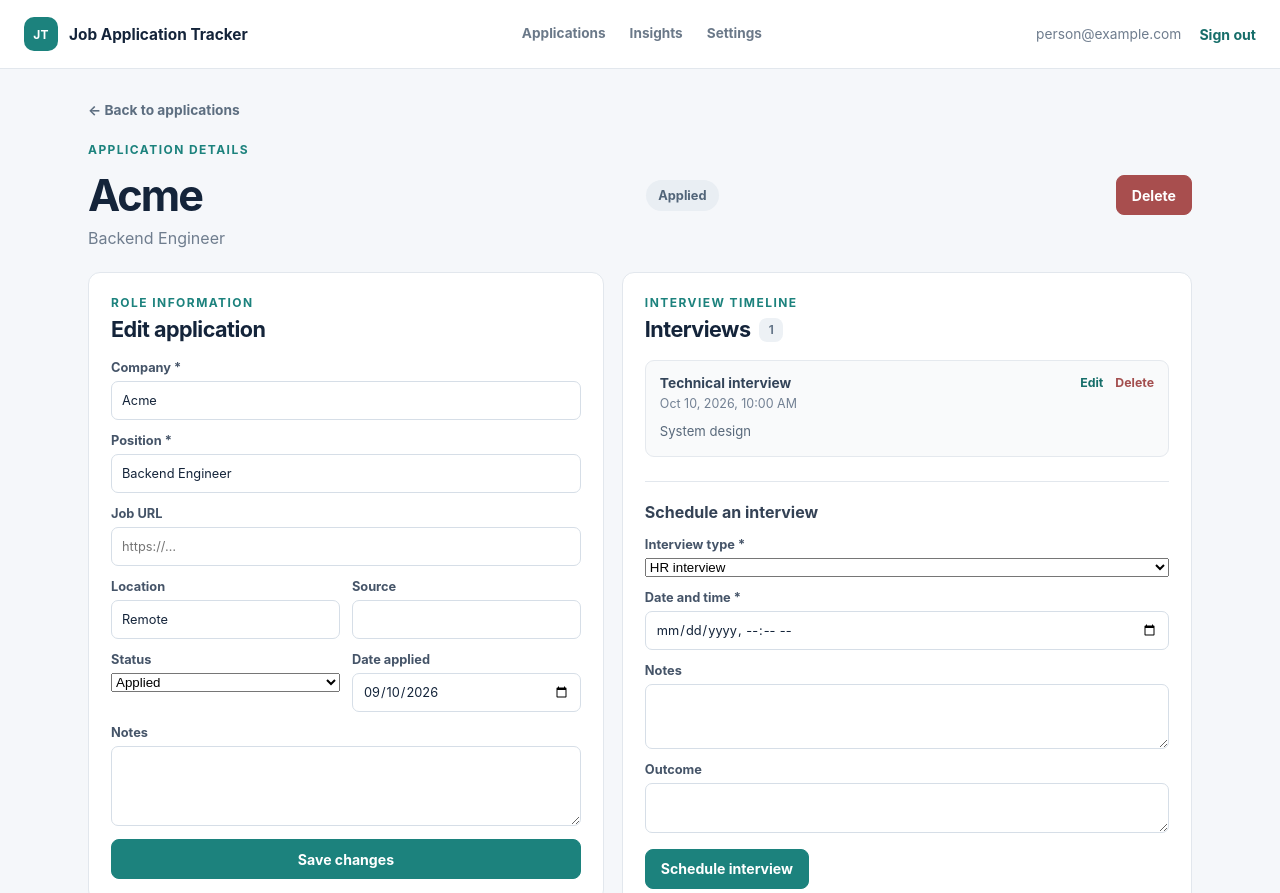
Test: ApplicationDetailPage › loads a job and its interview history, then schedules an interview
Expected: the text "System design" is shown, [660,423,751,439]
Type "2026-10-18T09:30" into the field labelled "Date and time *" at (907, 630), box [645,611,1169,650]
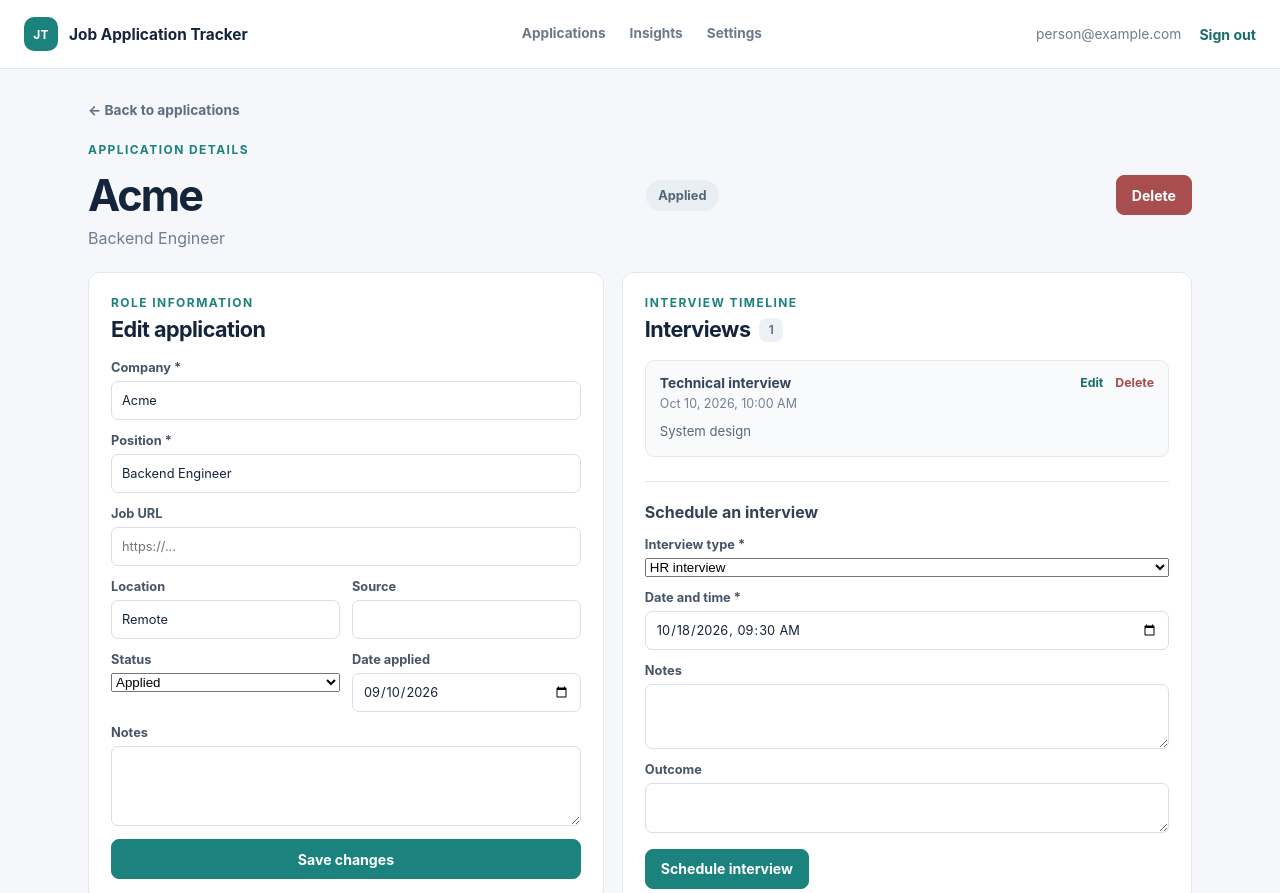
Select "HR interview" in the dropdown labelled "Interview type *" at (907, 567), box [645,558,1169,577]
Click the button "Schedule interview" at (727, 869), box [645,849,809,889]
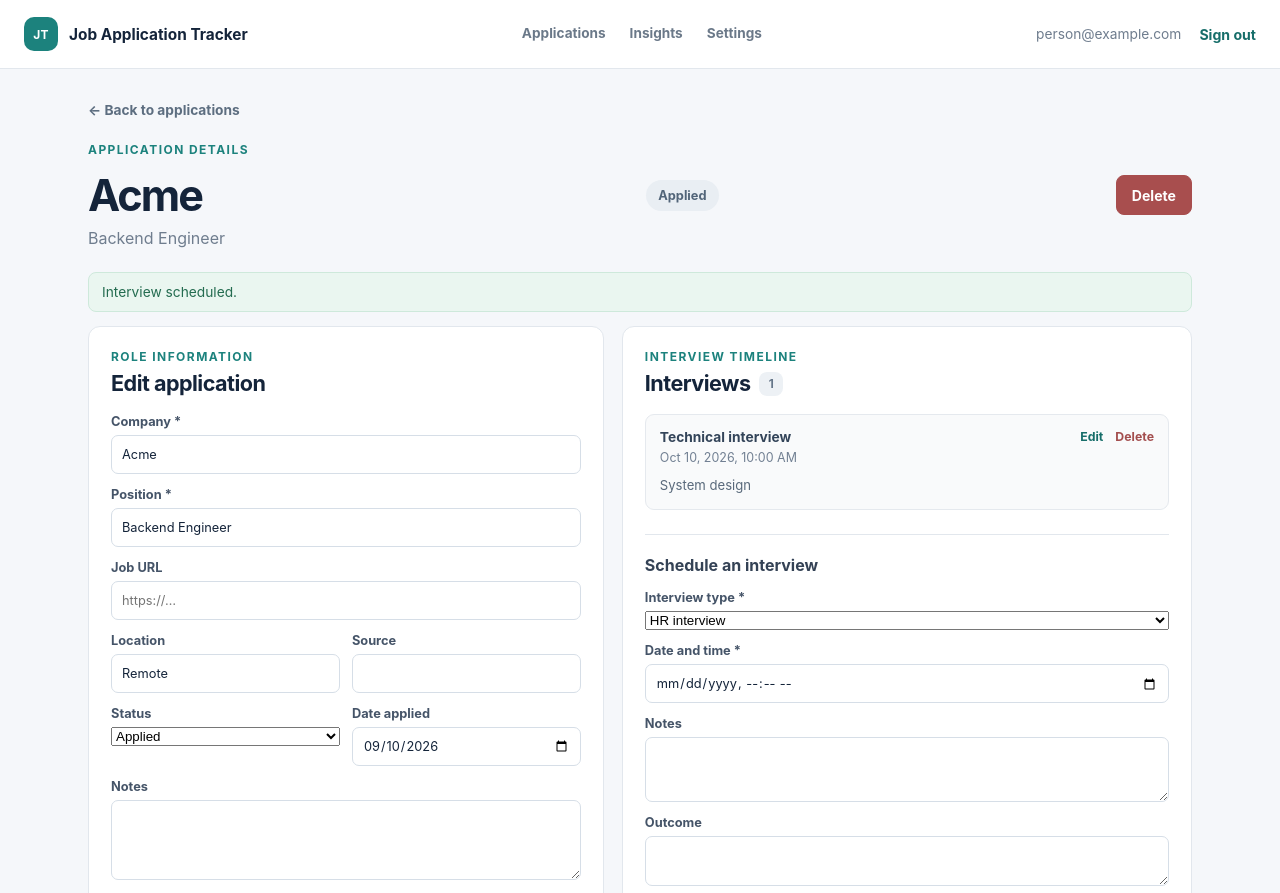
Result: the message reads "Interview scheduled." at [102,284,237,300]
